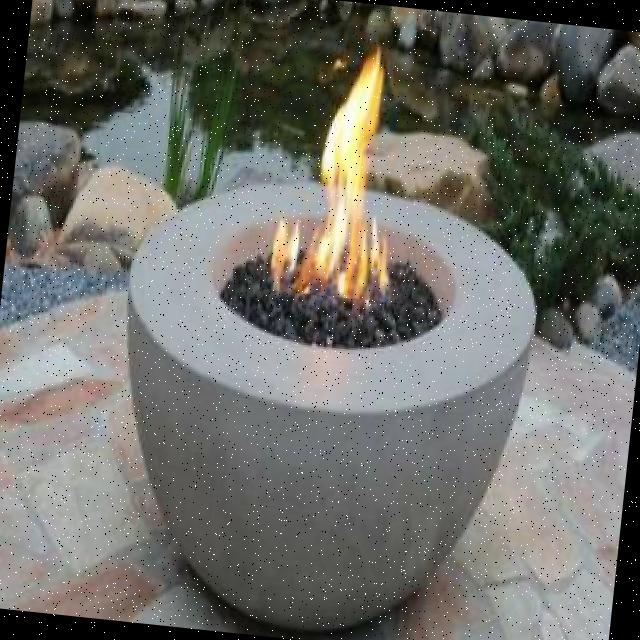fire: (261, 17, 431, 304)
